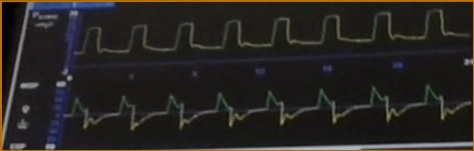Premature_cycling Flow: (65, 81, 471, 139)
